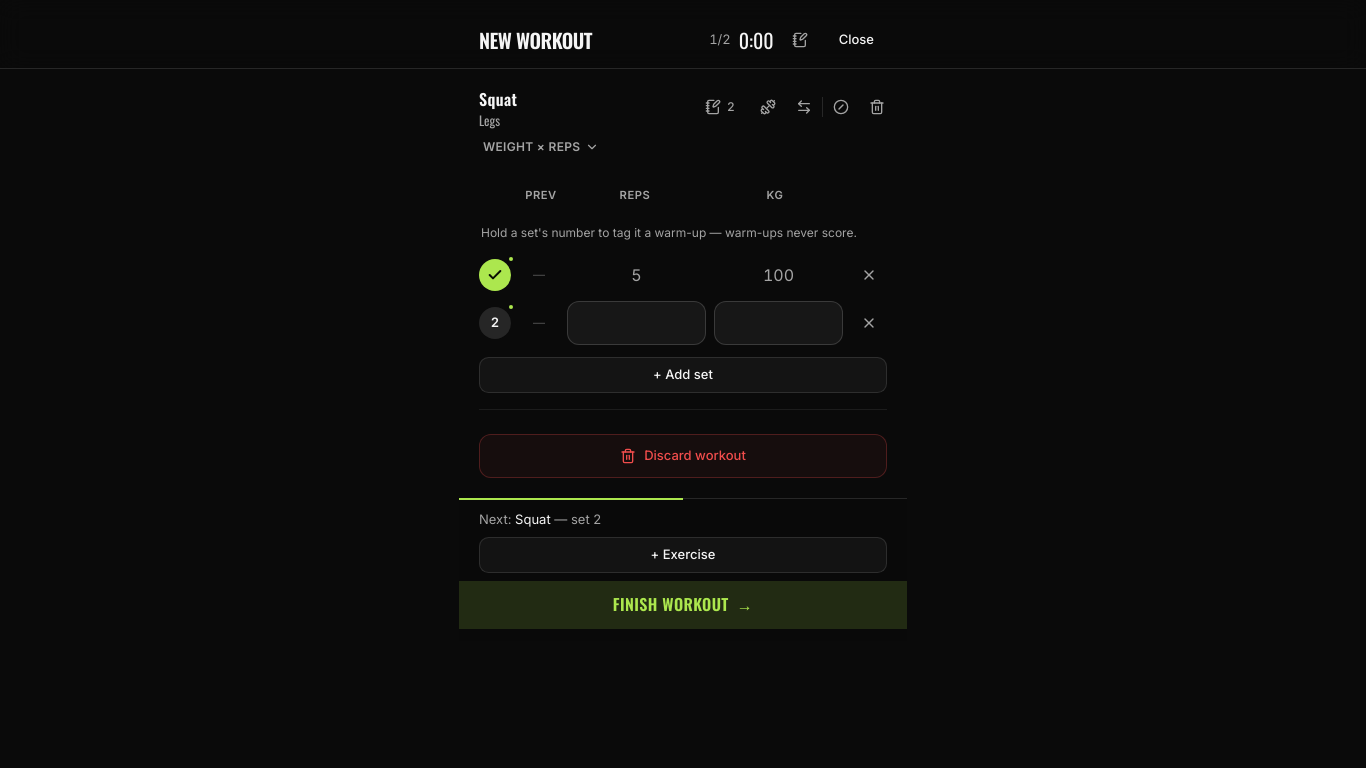
note capture volt budget + dot legibility › mutes the sticky bar while the sheet is open — Save is the only live volt
The image size is (1366, 768).
Press the mouse on the element with id "set-row-s2" at (683, 323), box [479,301,887,345]
Wait 510 ms
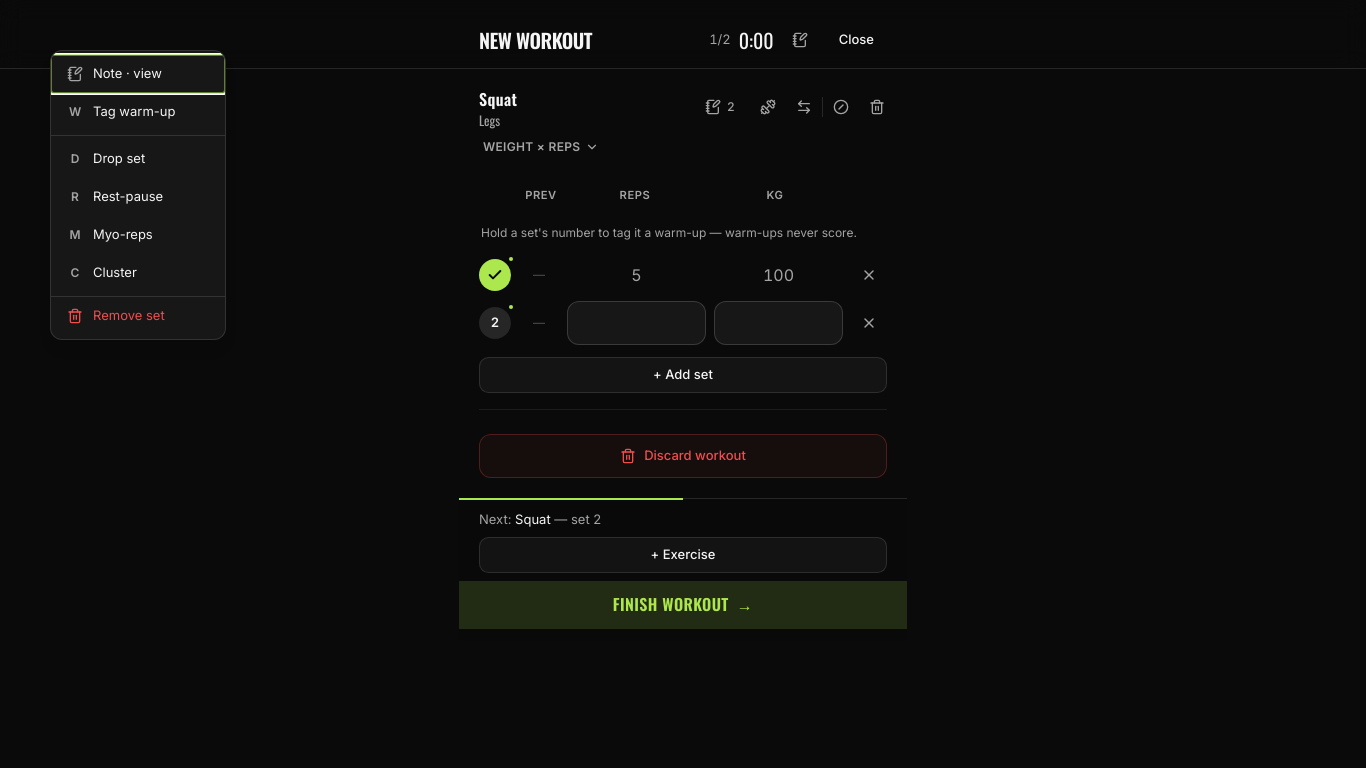
Now the menu item "Note · view" is shown
Click the menu item "Note · view". click: (138, 74)
box: [51,55,225,93]
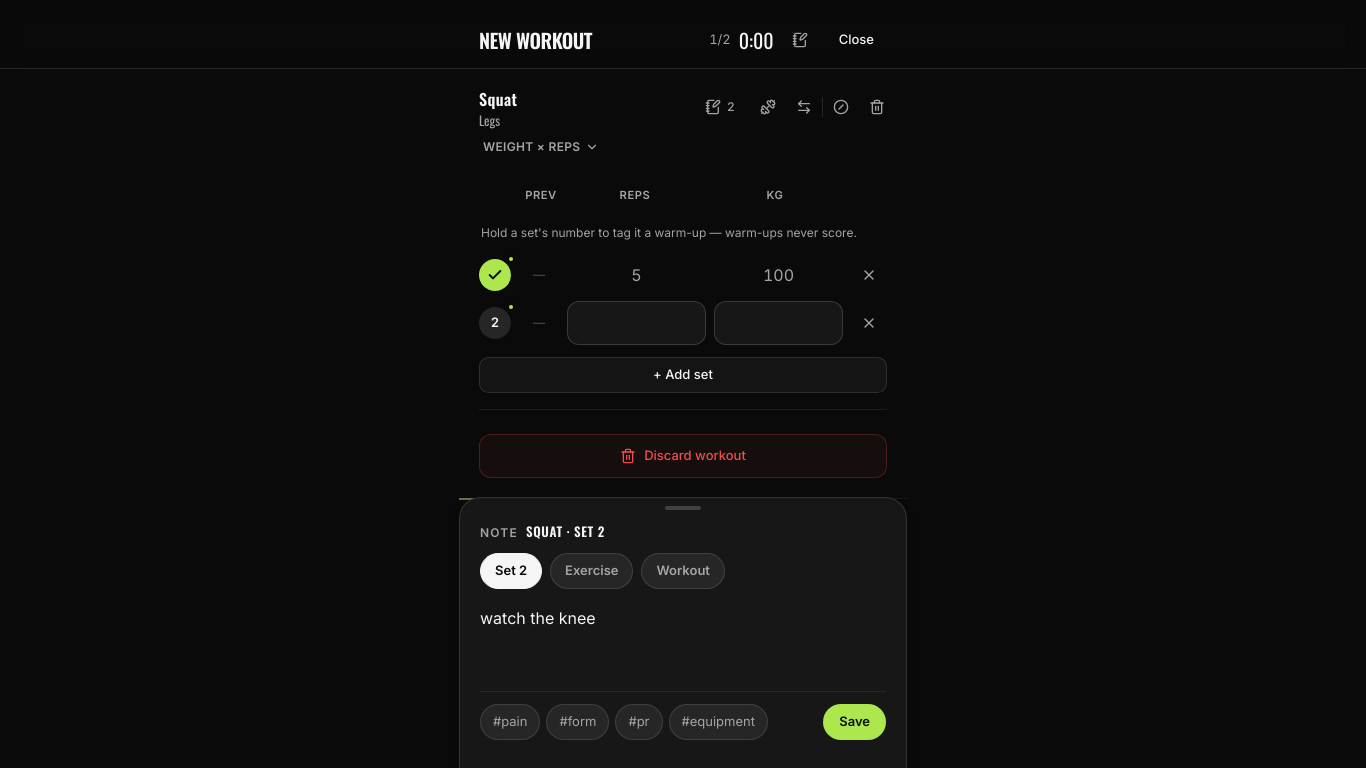
Now the dialog is shown, box [459,497,907,767]
